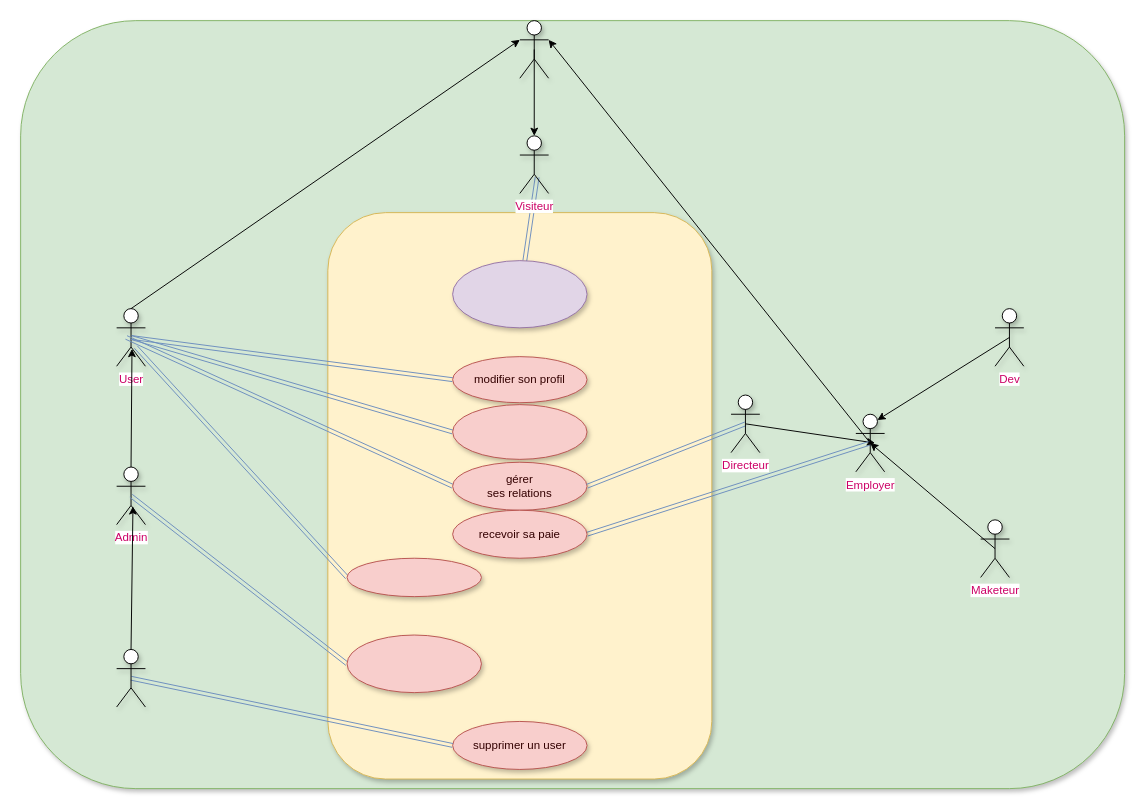
The diagram is 1147 pixels wide and 812 high, and some of its shapes have lost their labels. The shapes that lost their labels are listed below. From the top down, each one's centre as x and y in pixels, then its label:
At (534,50): "Personne".
At (520,295): "créer son compte".
At (520,433): "envoyer des message".
At (414,578): "supprimer ses message".
At (131,679): "Super Admin".
At (414,664): "supprimer tous les messages".
